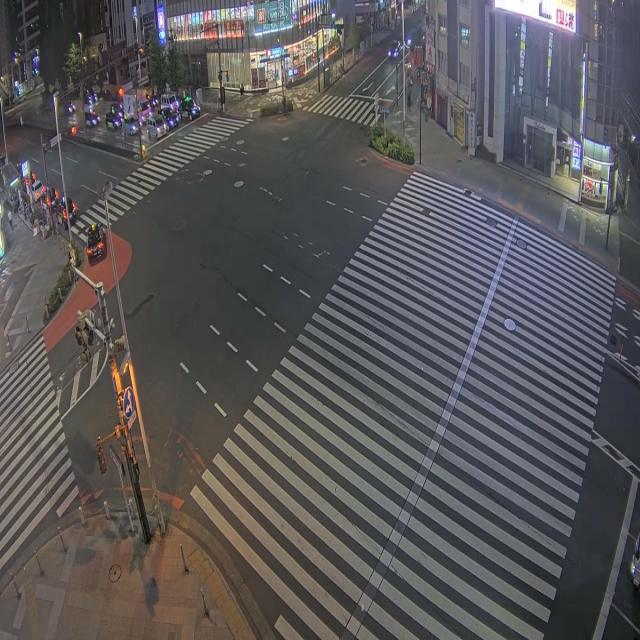car: (86, 224, 106, 262), (55, 203, 76, 229), (179, 96, 200, 119), (147, 115, 167, 139), (60, 195, 77, 223), (158, 107, 179, 129), (631, 537, 639, 588), (122, 115, 139, 135), (105, 112, 121, 130), (32, 180, 45, 201), (139, 101, 152, 121), (388, 40, 402, 58), (110, 103, 123, 119), (85, 112, 98, 127), (146, 95, 159, 106), (67, 100, 75, 114), (406, 35, 412, 46)
van: (160, 93, 179, 111)
